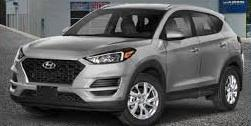Crossovers: (11, 5, 245, 126)
